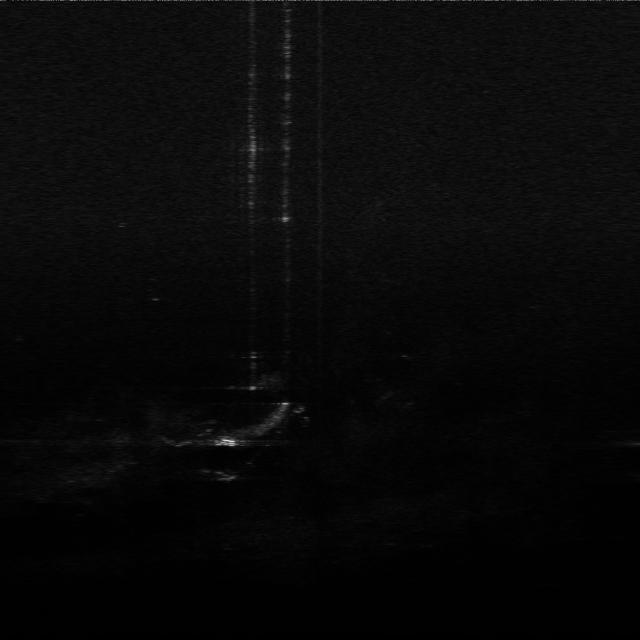rov: (208, 432, 240, 452)
